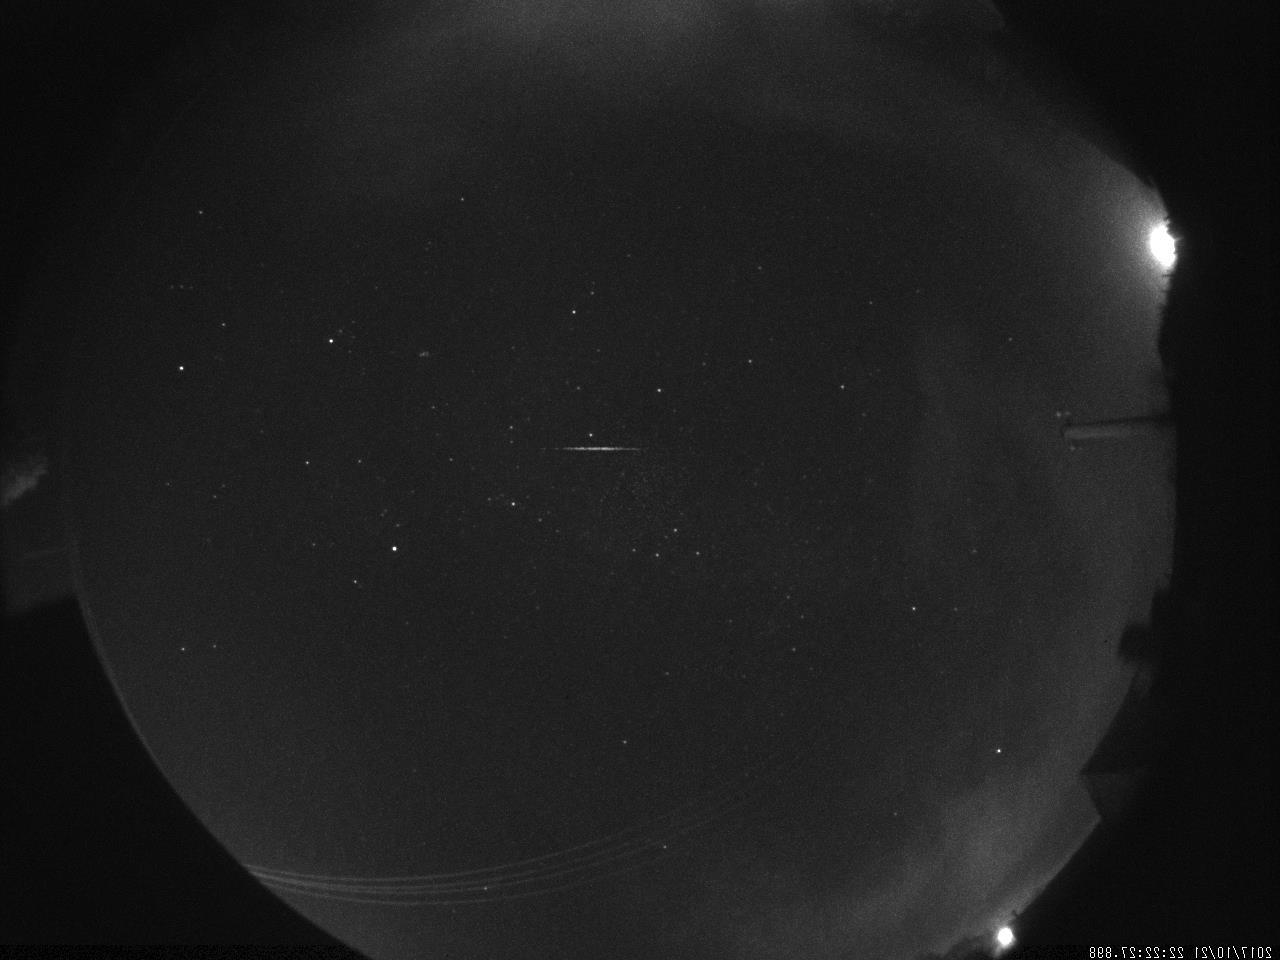meteor: (516, 429, 654, 466)
